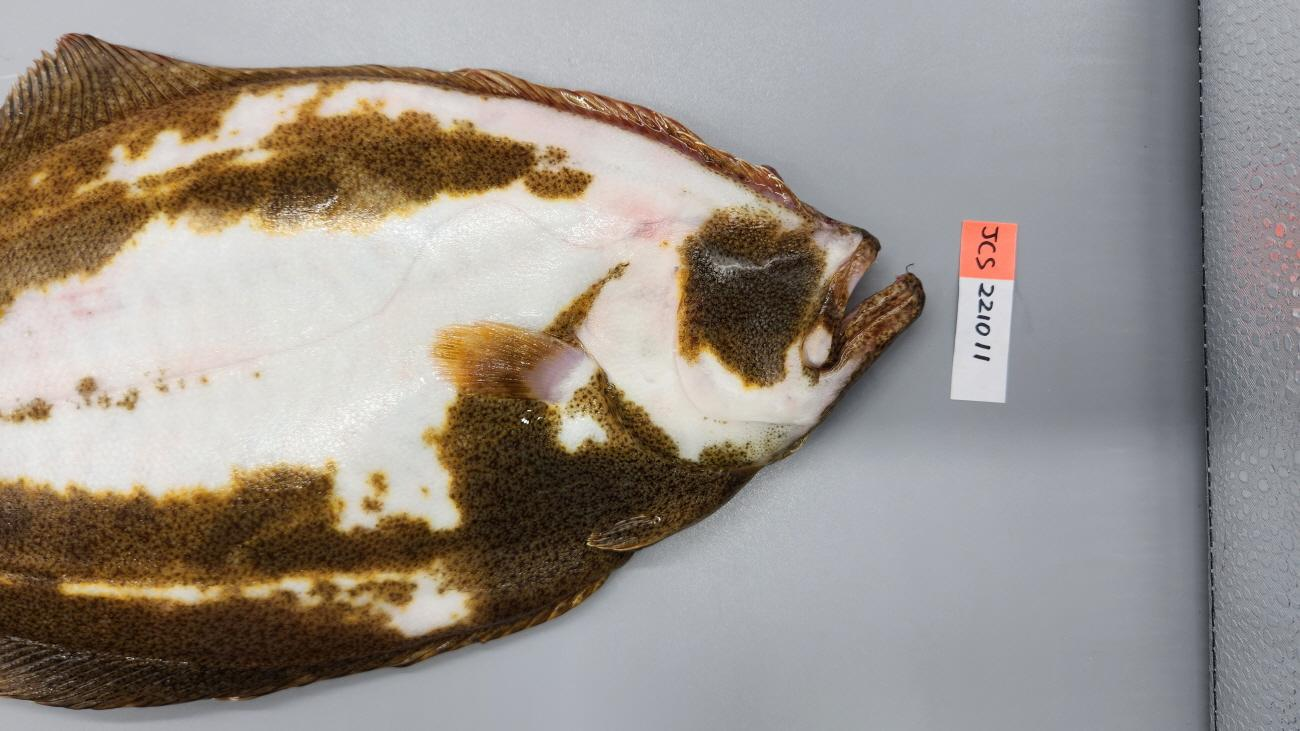VIFAH: (26, 650, 239, 702)
